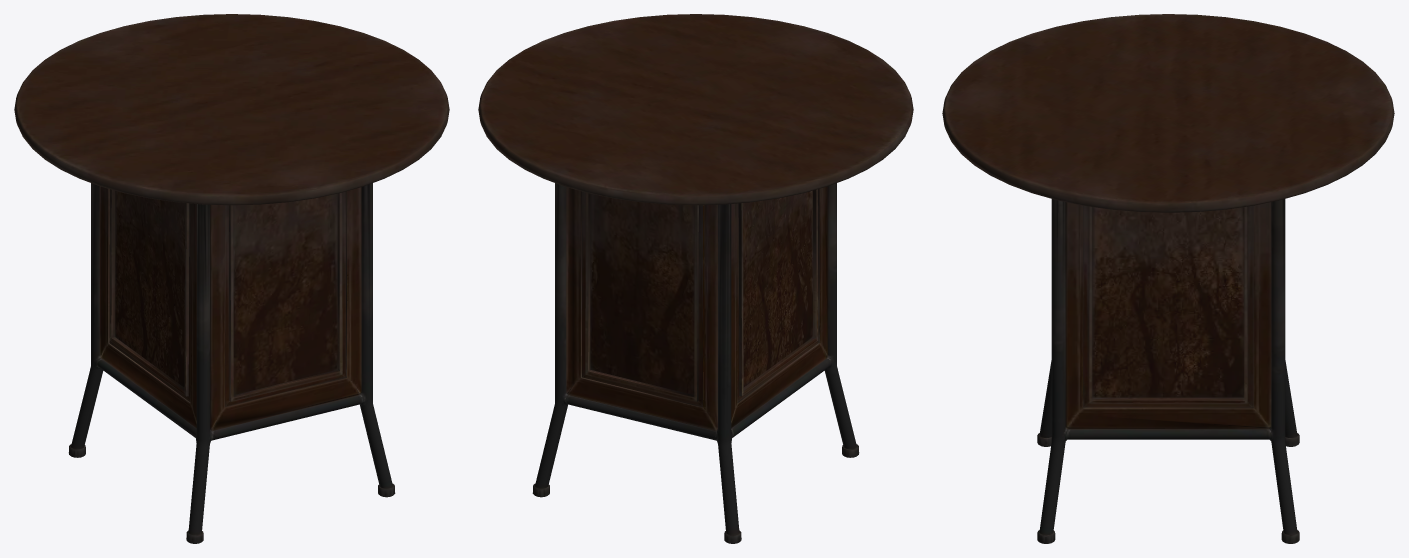
The model's file is round_wooden_table_02.glb.
3 renders of one model, left to right at view 1: azimuth 30°, elevation 25°; view 2: azimuth 150°, elevation 25°; view 3: azimuth 270°, elevation 25°, orthographic. The views are drawn at different scales.
Visible parts, largest first — view 1: round_wooden_table_02; view 2: round_wooden_table_02; view 3: round_wooden_table_02.
Boxes of the visible parts, x1,y1,x2,y2 form: round_wooden_table_02: (14, 14, 449, 543); round_wooden_table_02: (478, 14, 913, 543); round_wooden_table_02: (942, 14, 1394, 543).
Size of the model in its own units: 0.7962 by 0.7459 by 0.7962.
1 material, 1 textured.
